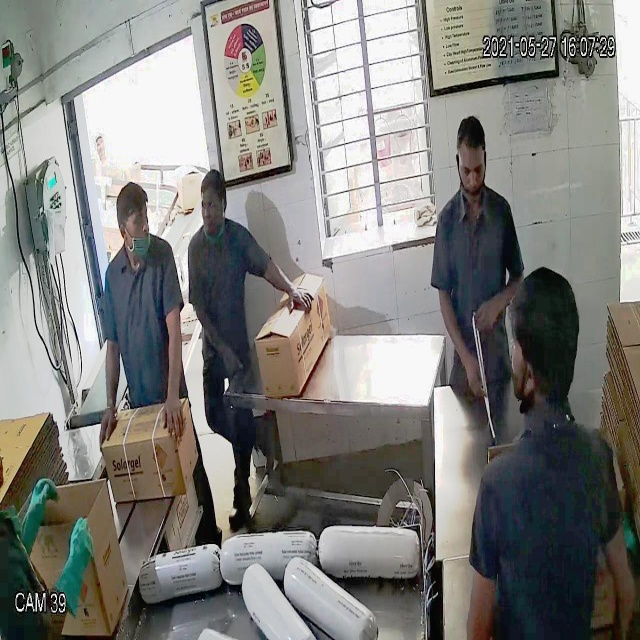Sin_gafas: (451, 149, 492, 189), (111, 205, 155, 238)
